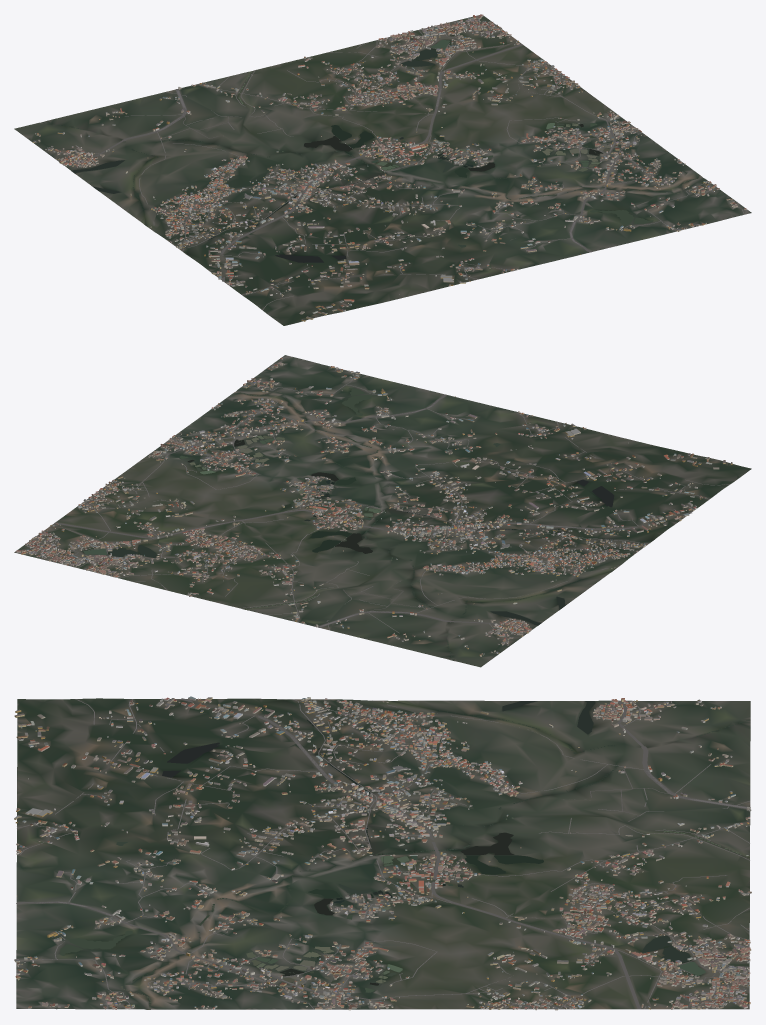
3 renders of one model, top to bottom at view 1: azimuth 30°, elevation 25°; view 2: azimuth 150°, elevation 25°; view 3: azimuth 270°, elevation 25°, orthographic. The views are drawn at different scales.
Visible parts, largest first — view 1: ground, buildings, roads, water; view 2: ground, buildings, roads, water; view 3: ground, buildings, roads, water.
Part boxes in pixels (left/top/right/bottom): ground: left=14, top=15, right=751, bottom=325; buildings: left=32, top=14, right=746, bottom=321; roads: left=47, top=16, right=746, bottom=310; water: left=42, top=35, right=703, bottom=262; ground: left=14, top=355, right=751, bottom=667; buildings: left=16, top=357, right=732, bottom=656; roads: left=20, top=357, right=729, bottom=645; water: left=71, top=387, right=614, bottom=660; ground: left=16, top=698, right=750, bottom=1009; buildings: left=14, top=696, right=751, bottom=1010; roads: left=16, top=698, right=749, bottom=1009; water: left=60, top=701, right=749, bottom=1009.
Size of the model in its own units: 2816 by 21.88 by 2822.
